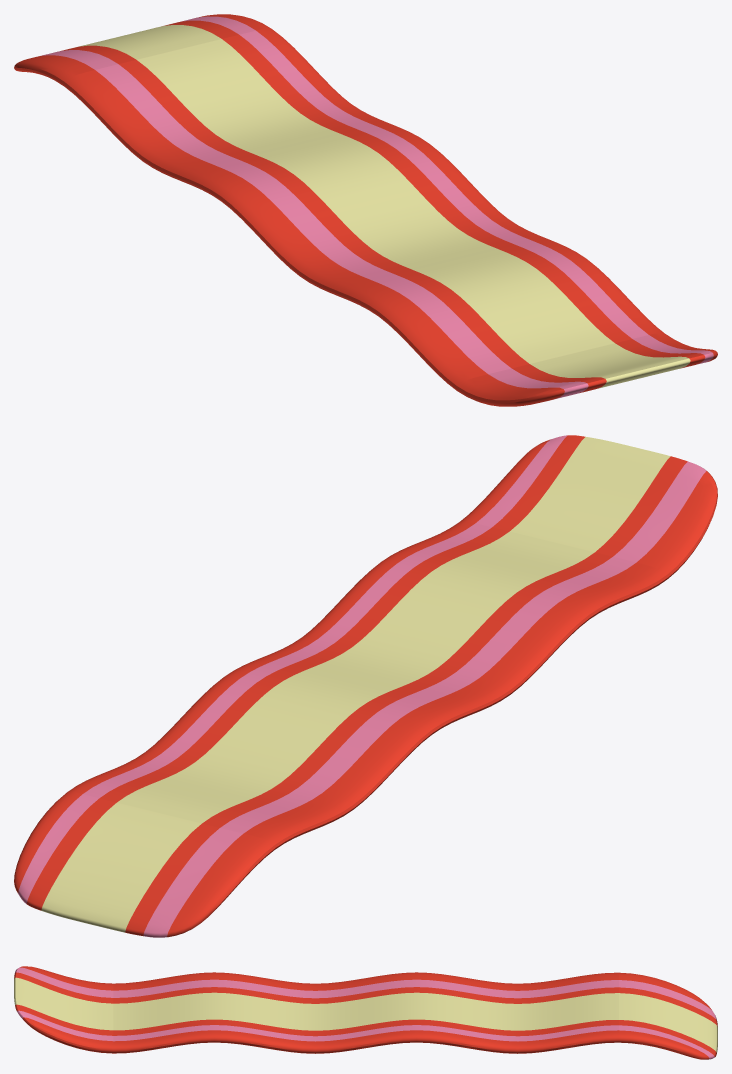
Rendered from bacon.fbx.
3 views of the same model, one above another, from view 1: azimuth 30°, elevation 25°; view 2: azimuth 150°, elevation 25°; view 3: azimuth 270°, elevation 25° (orthographic). The views are drawn at different scales.
Parts seen in each view (by area): view 1: Plane.001; view 2: Plane.001; view 3: Plane.001.
Boxes of the visible parts, bbox=[...] form: Plane.001: bbox=[14, 14, 717, 406]; Plane.001: bbox=[14, 435, 717, 937]; Plane.001: bbox=[14, 966, 717, 1059].
Size of the model in its own units: 257 by 91.17 by 1152.
